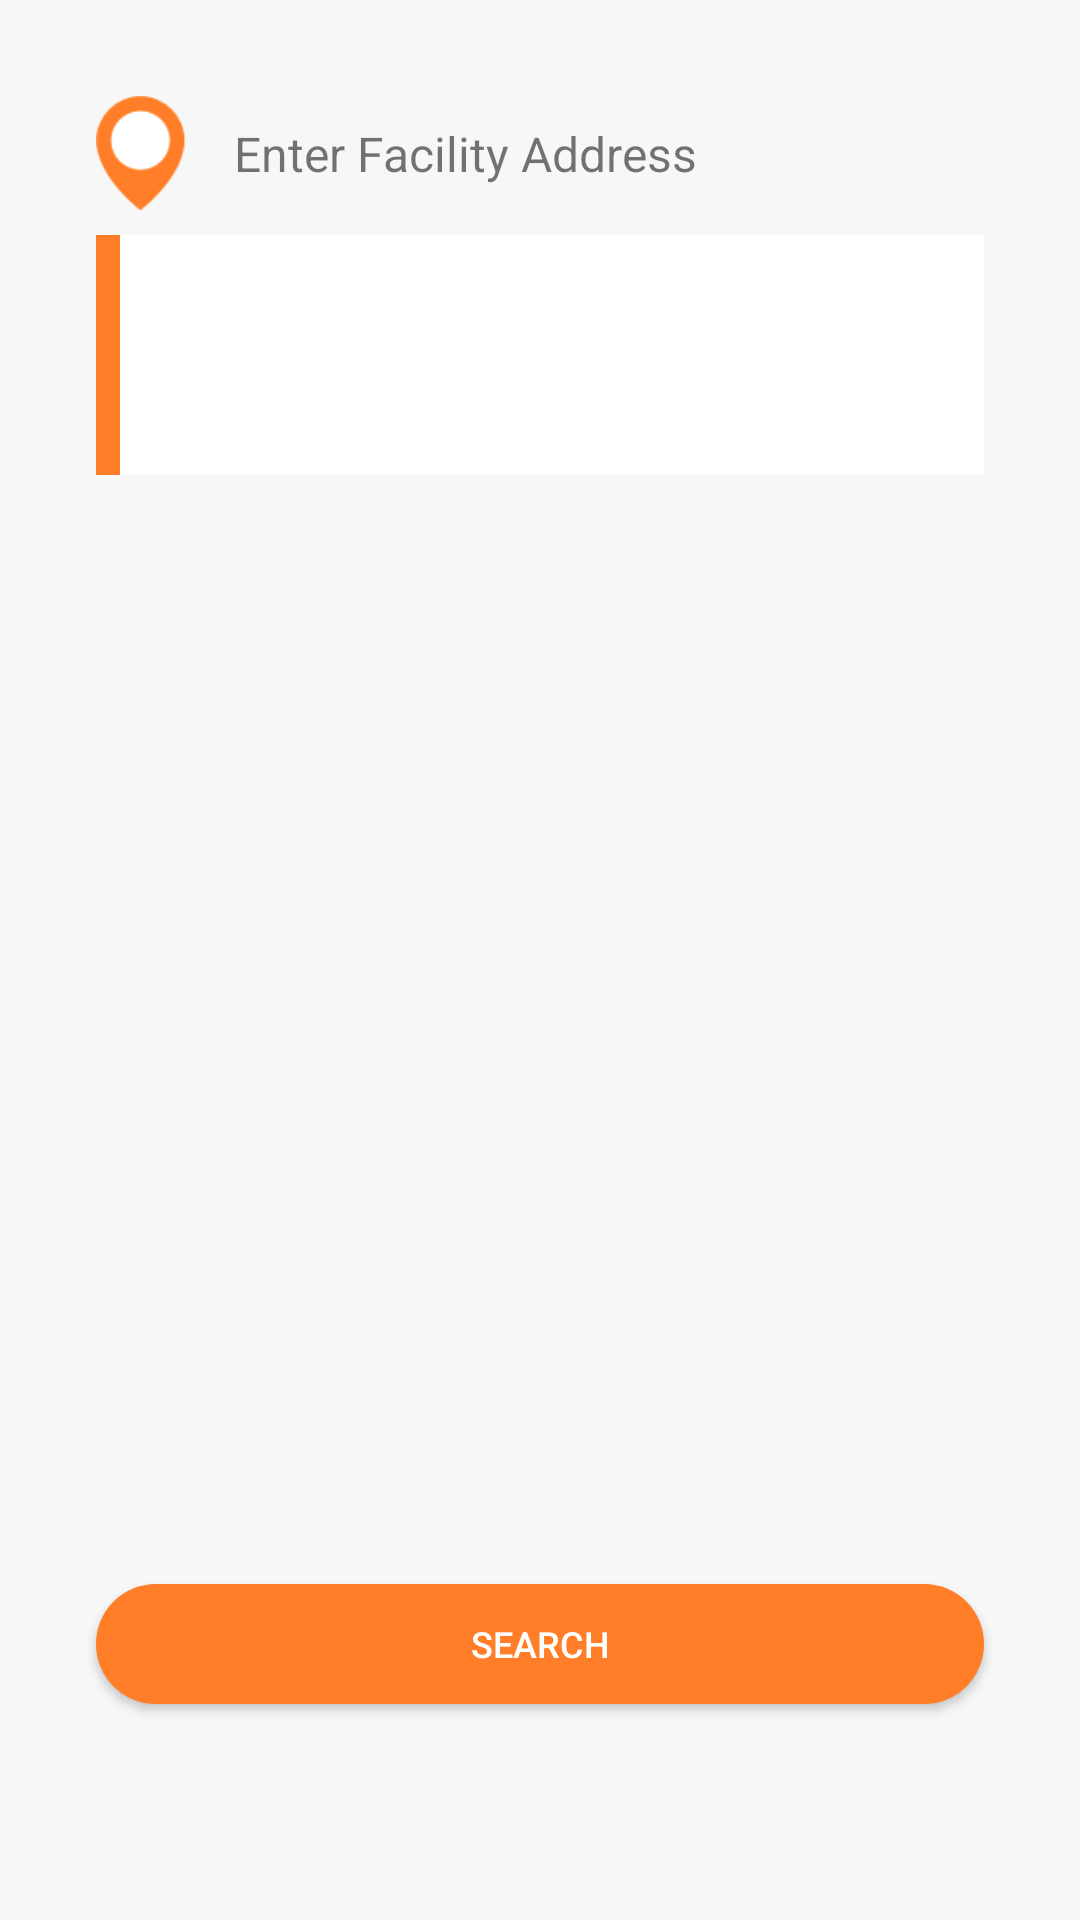

Icon click points for this 1080w x 1920h phone screenshot, format (x,y):
place: (141,153)
